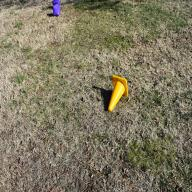cone: (108, 74, 128, 112)
cube: (52, 4, 60, 16), (52, 0, 60, 5)
